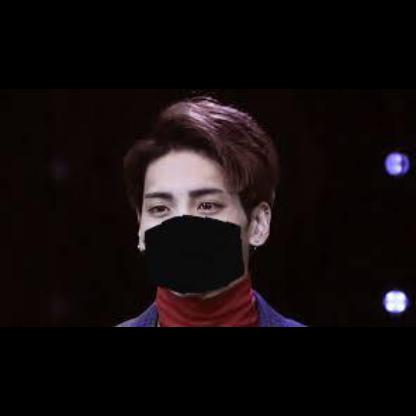Fabric/Cloth Mask: (143, 174, 245, 284)
